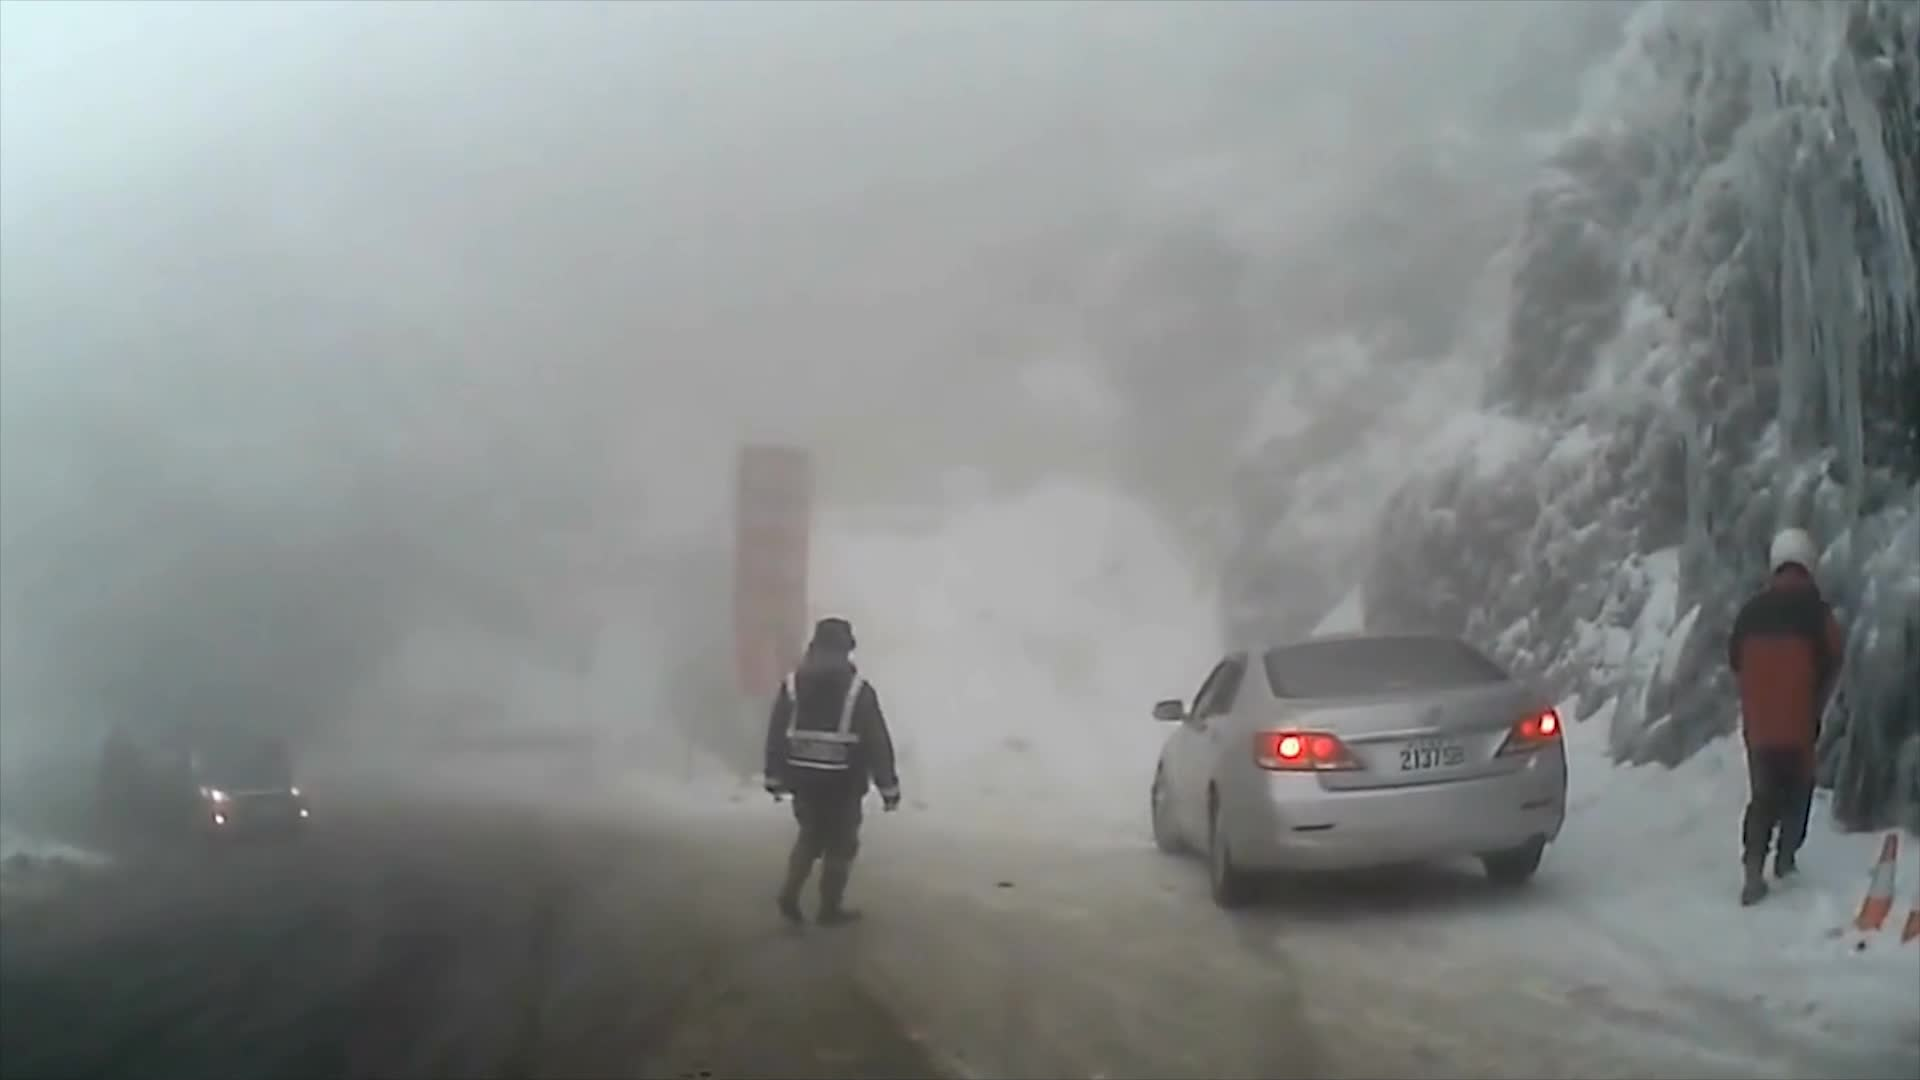pedestrian: (1729, 526, 1847, 906), (764, 619, 902, 928)
vehicle: (1147, 633, 1568, 910)
